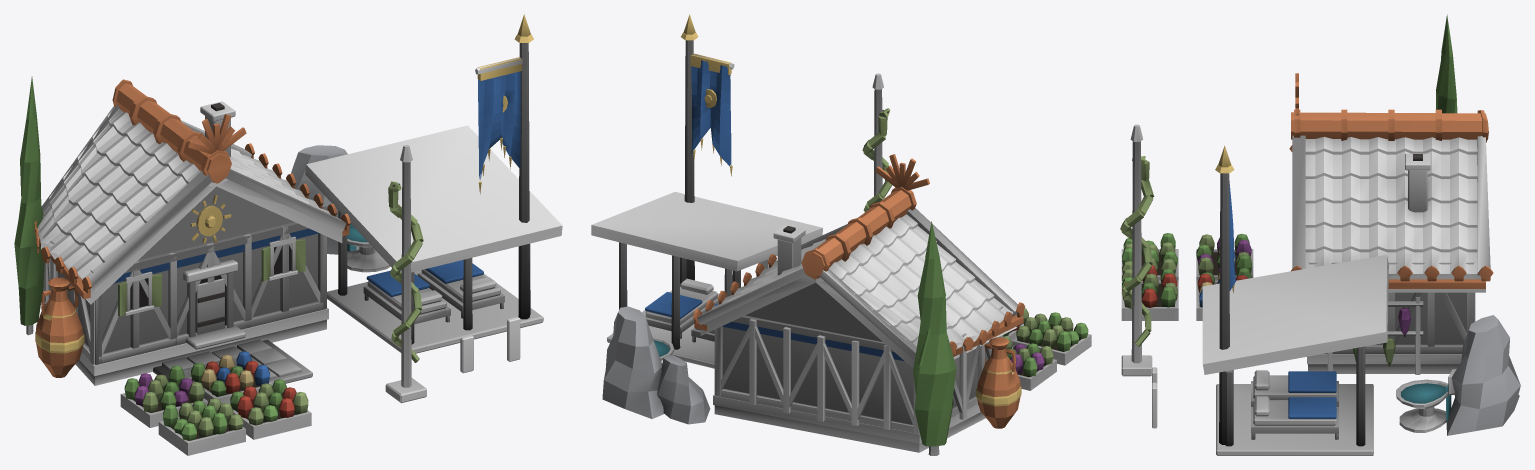
File: healers-hut-l2.glb
The picture shows the model from 3 angles, left to right: view 1: azimuth 30°, elevation 25°; view 2: azimuth 150°, elevation 25°; view 3: azimuth 270°, elevation 25°; orthographic projection. The views are drawn at different scales.
Visible parts, largest first — view 1: healers-hut-l2; view 2: healers-hut-l2; view 3: healers-hut-l2.
Part boxes in pixels (x1,y1,x2,y2): healers-hut-l2: (14, 14, 562, 455); healers-hut-l2: (591, 14, 1091, 455); healers-hut-l2: (1120, 14, 1520, 455).
Bounding box in the file's own units: 1.38 × 0.9091 × 1.08.
